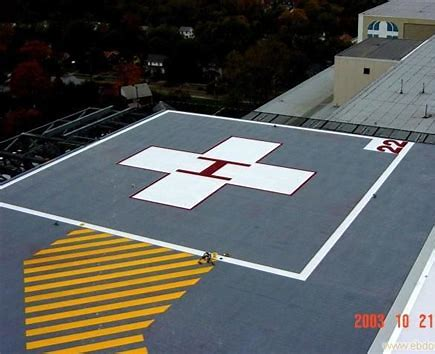H: (175, 157, 252, 182)
